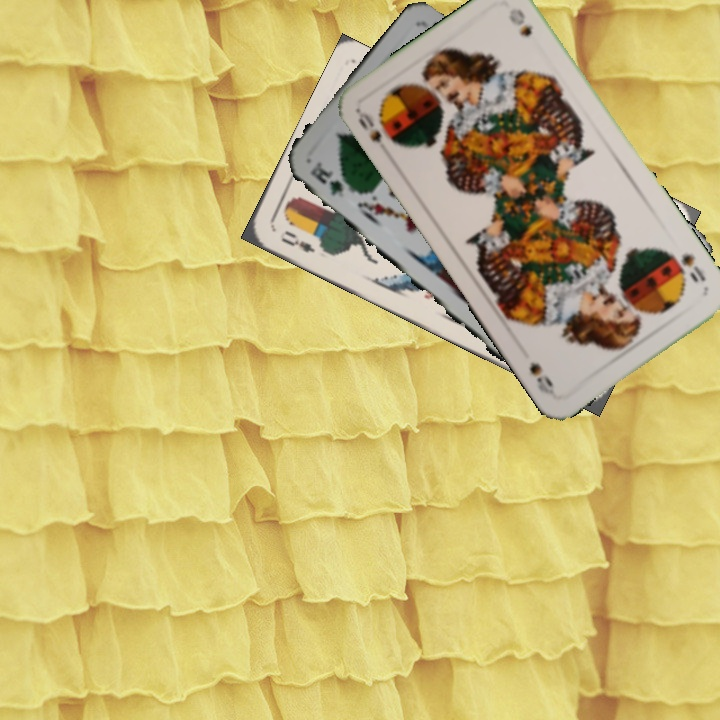EO: (277, 226, 328, 255)
GK: (306, 161, 347, 200)
SO: (667, 249, 709, 286), (353, 107, 384, 145)
